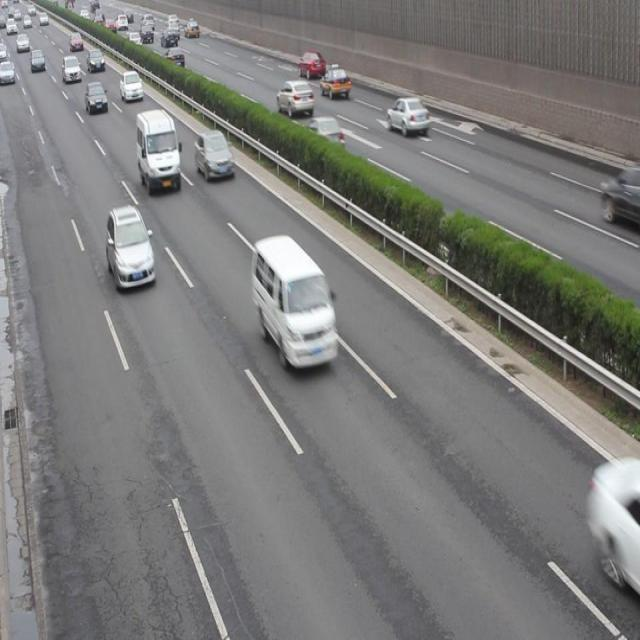car: (106, 204, 155, 291), (195, 129, 235, 184), (302, 115, 345, 158), (386, 96, 429, 136), (276, 79, 313, 117), (319, 66, 350, 100), (298, 50, 326, 82)
truck: (252, 232, 338, 371), (136, 108, 180, 194)
